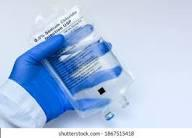Glove: (9, 35, 72, 120)
